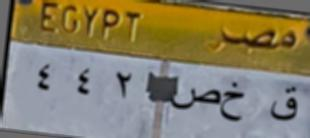2: (115, 66, 136, 99)
4: (34, 61, 55, 100), (75, 63, 93, 101)
khaa: (222, 77, 247, 126)
qaaf: (268, 82, 301, 128)
saad: (165, 77, 221, 119)
